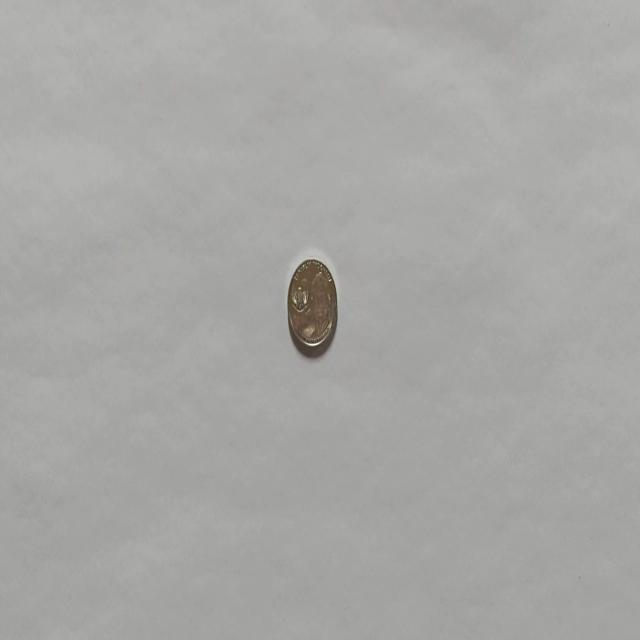dua ratus rupiah: (286, 256, 338, 351)
